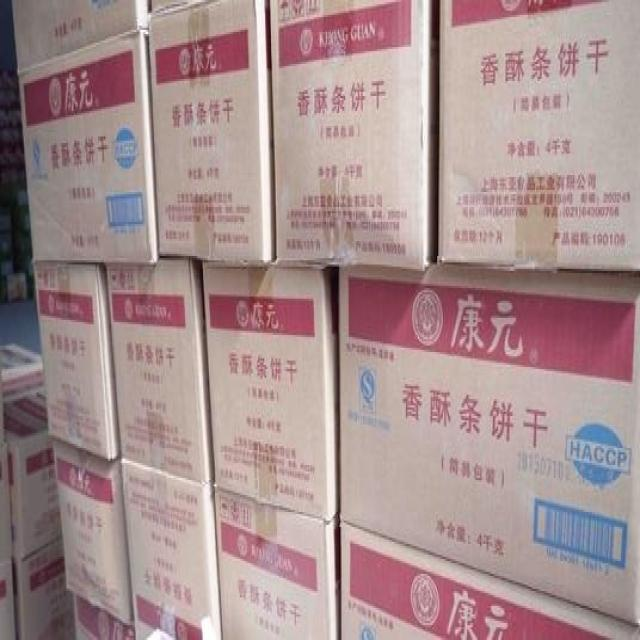box: (340, 262, 640, 625), (438, 0, 640, 271), (269, 0, 438, 273), (202, 262, 339, 523), (340, 523, 640, 640), (149, 0, 275, 265), (19, 28, 158, 265), (106, 260, 211, 484), (215, 493, 340, 640), (121, 459, 221, 640), (32, 262, 119, 461), (53, 439, 134, 627), (4, 390, 61, 559), (12, 0, 149, 68), (13, 535, 75, 640)
